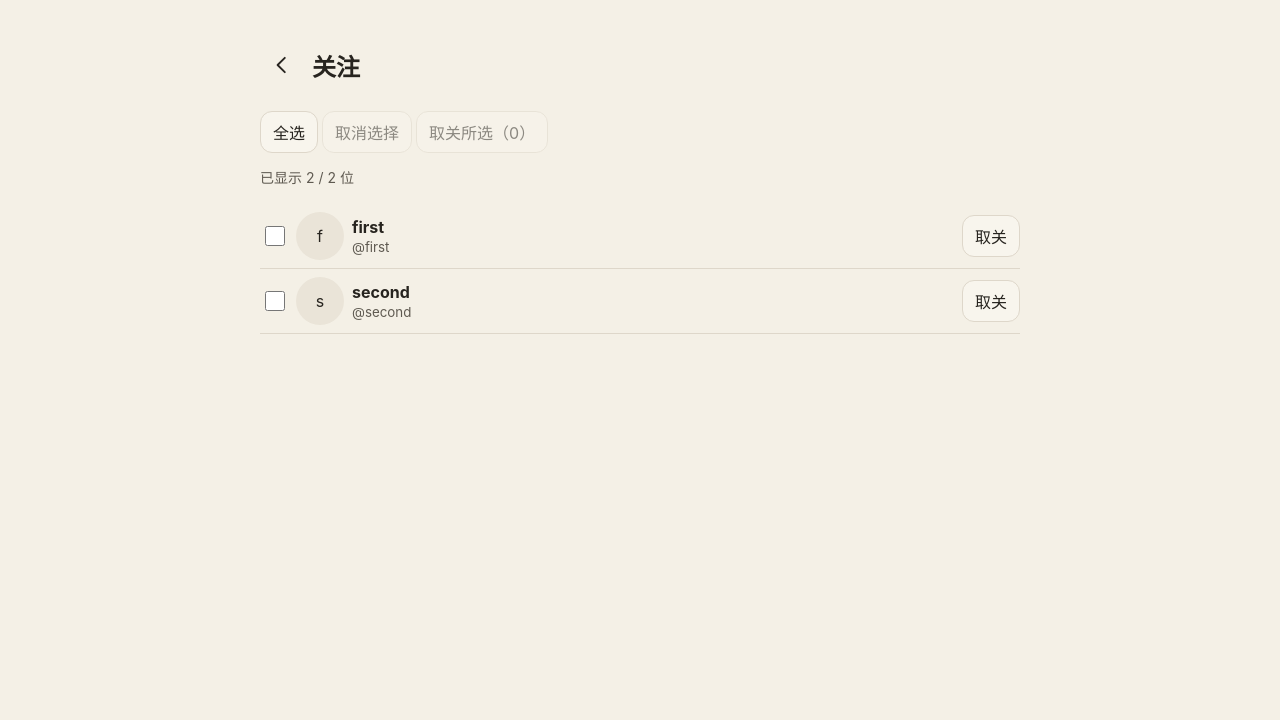
stops a batch if the account changes while the first command is pending
Step 1. Click the button "全选" → [289, 132], box [260,111,318,153]
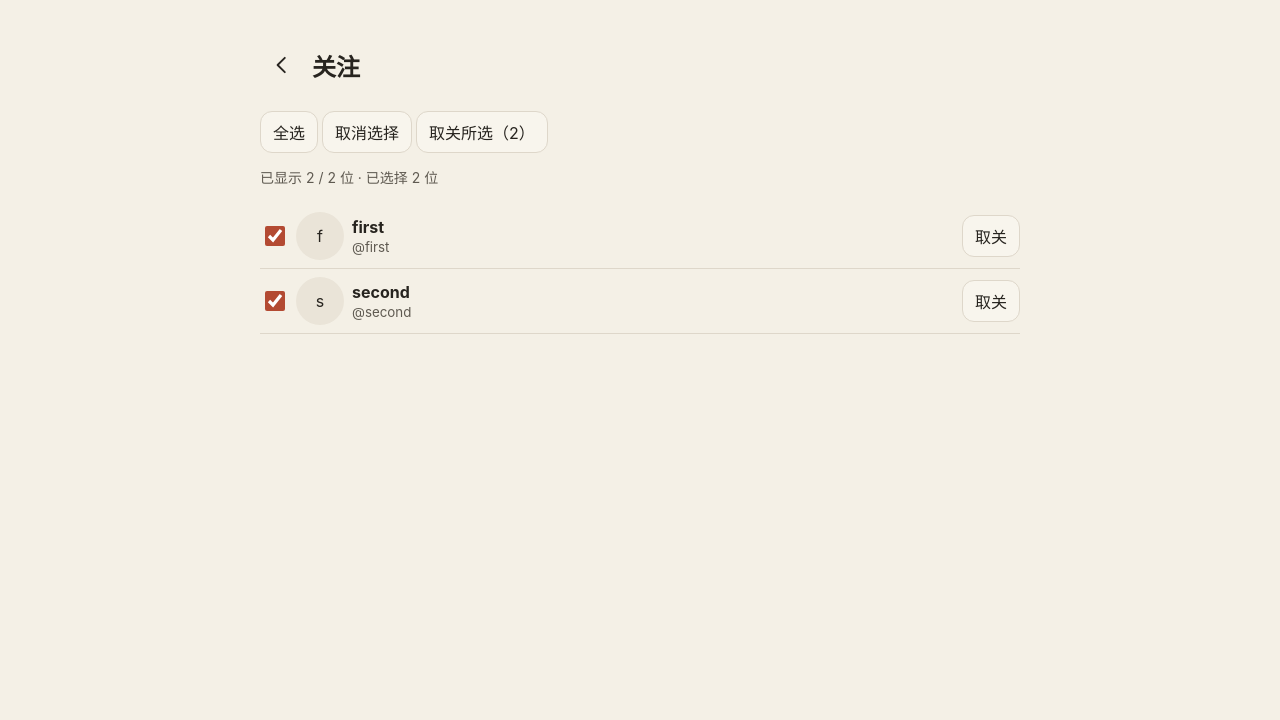
Step 2. Click the button "取关所选（2）" → [482, 132], box [416,111,548,153]
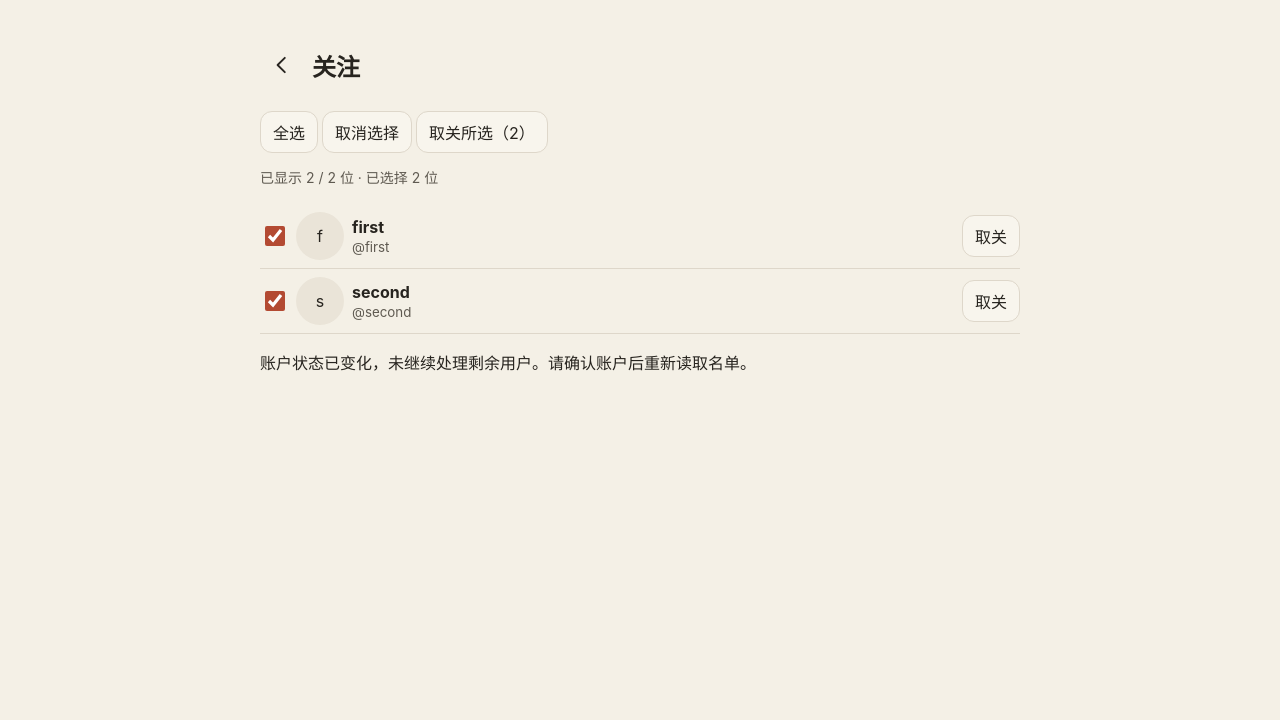
Now the message "账户状态已变化，未继续处理剩余用户。请确认账户后重新读取名单。" is shown, box [260,353,756,373]
